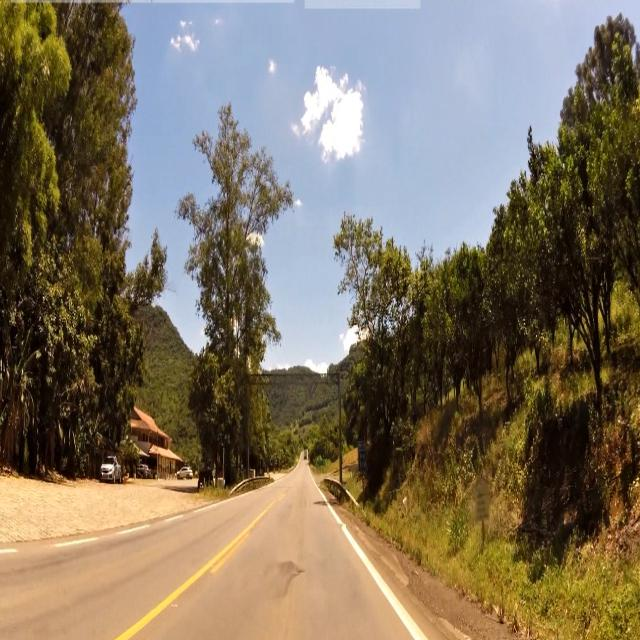RQ: (357, 436, 367, 472)
